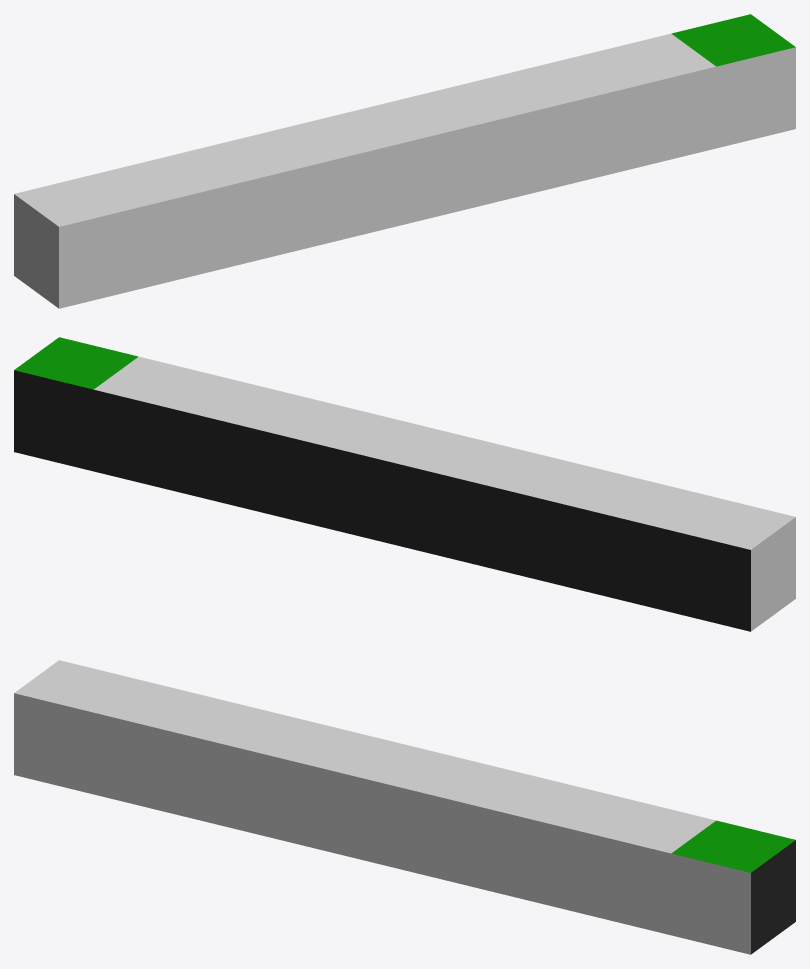
File: Puzzle1.fbx
3 renders of one model, top to bottom at view 1: azimuth 30°, elevation 25°; view 2: azimuth 150°, elevation 25°; view 3: azimuth 330°, elevation 25°, orthographic.
Parts seen in each view (by area): view 1: Cube; view 2: Cube; view 3: Cube.
Boxes of the visible parts, x1=… form: Cube: x1=14, y1=14, x2=795, y2=308; Cube: x1=14, y1=337, x2=795, y2=631; Cube: x1=14, y1=660, x2=795, y2=954.
Size of the model in its own units: 1884 by 200 by 200.
